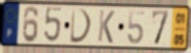5: (43, 5, 64, 45), (127, 10, 146, 45)
6: (22, 5, 40, 45)
7: (151, 9, 171, 47)
D: (69, 7, 94, 45)
K: (96, 9, 116, 45)
